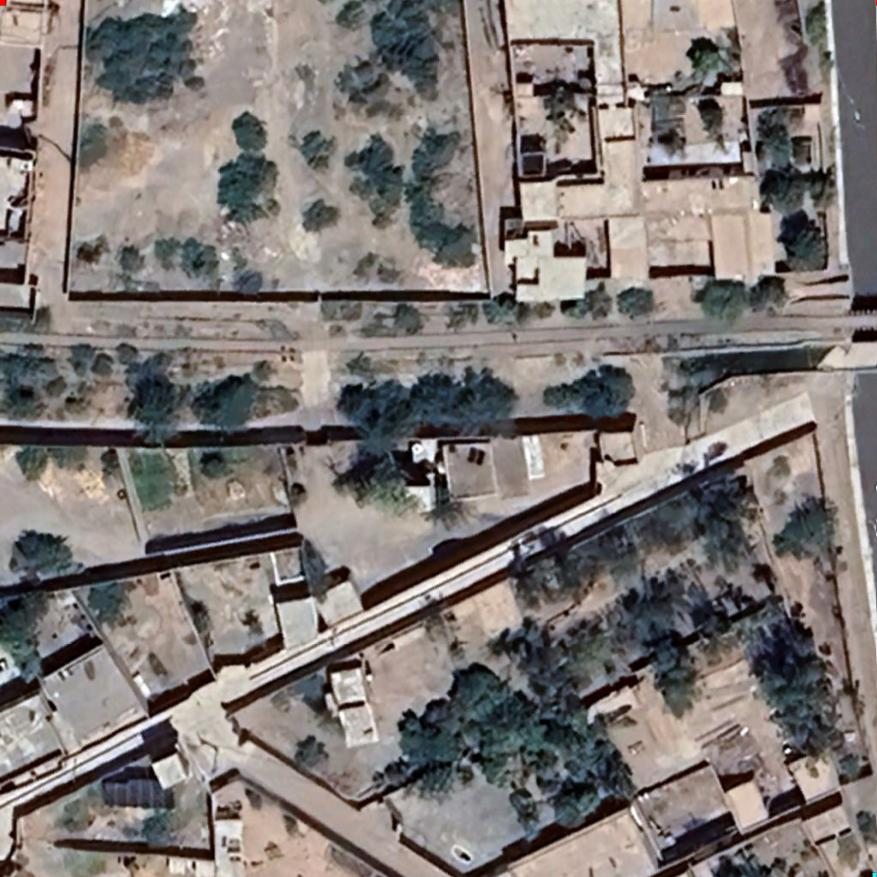Solarpanel: (97, 776, 171, 814), (461, 441, 491, 466)
